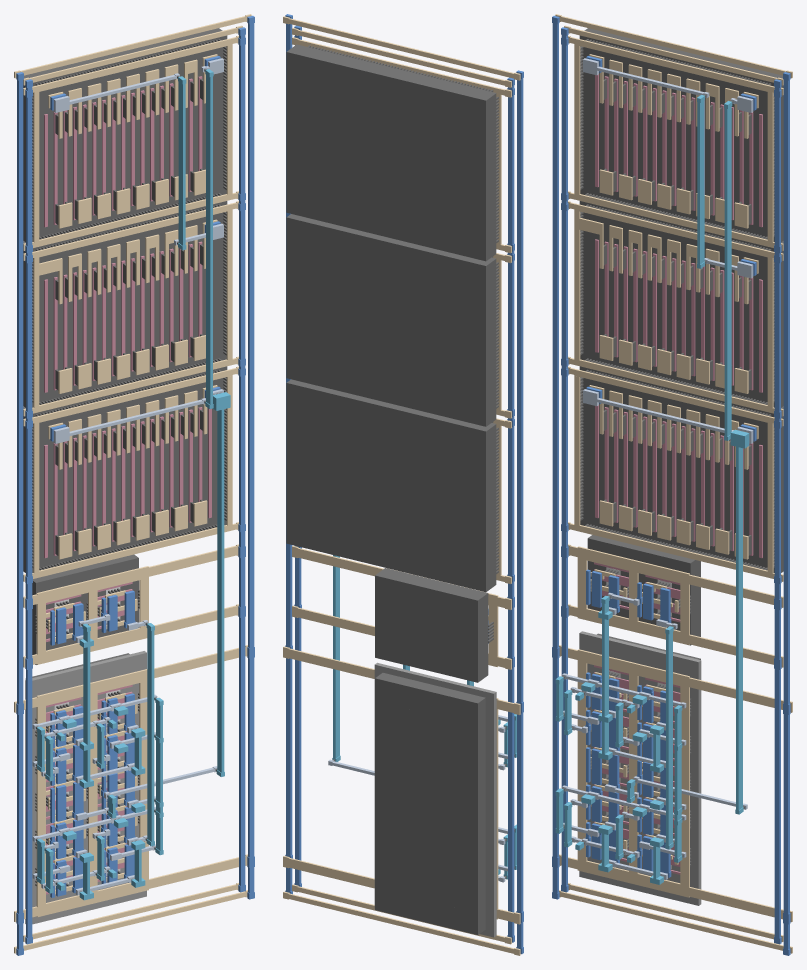
Rendered from OTA.gds.gltf.
3 views of the same model, side by side, from view 1: azimuth 30°, elevation 25°; view 2: azimuth 150°, elevation 25°; view 3: azimuth 330°, elevation 25° (orthographic).
Parts seen in each view (by area): view 1: JNWTR_RPPO16_substrate (×3), OTA_met1, JNWTR_RES16_poly (×3), JNWTR_RES16_li1 (×3), OTA_li1, JNWTR_RES16_substrate (×3), OTA_met3, JNWTR_RPPO16_li1 (×3), OTA_met2, JNWATR_PCH_4C5F0_met1 (×10), JNWTR_RES16_licon (×3), JNWTR_RPPO16_licon (×3) (+10 smaller); view 2: JNWTR_RPPO16_substrate (×3), JNWTR_RES16_substrate (×3), JNWATR_PCH_4C5F0_substrate (×10), OTA_met1, OTA_li1, JNWATR_NCH_4C5F0_substrate (×2), JNWATR_NCH_4CTAPTOP_substrate (×2), JNWATR_PCH_4CTAPTOP_substrate (×2), JNWATR_NCH_4CTAPBOT_substrate (×2), JNWATR_PCH_4CTAPBOT_substrate (×2), JNWTR_RPPO16_li1 (×3), OTA_met3 (+4 smaller); view 3: JNWTR_RPPO16_substrate (×3), OTA_met1, JNWTR_RES16_poly (×3), OTA_li1, JNWTR_RES16_li1 (×3), OTA_met3, JNWTR_RES16_substrate (×2), JNWTR_RPPO16_li1 (×3), OTA_met2, JNWATR_PCH_4C5F0_met1 (×10), JNWTR_RES16_licon (×3), JNWTR_RPPO16_licon (×3) (+12 smaller).
Boxes of the visible parts, x1,y1,x2,y2 form: JNWTR_RPPO16_substrate (×3): (23, 28, 227, 572); OTA_met1: (16, 15, 254, 955); JNWTR_RES16_poly (×3): (44, 76, 211, 558); JNWTR_RES16_li1 (×3): (50, 59, 207, 559); OTA_li1: (14, 14, 251, 953); JNWTR_RES16_substrate (×3): (45, 60, 207, 550); OTA_met3: (37, 69, 230, 900); JNWTR_RPPO16_li1 (×3): (33, 39, 232, 574); OTA_met2: (32, 58, 223, 895); JNWATR_PCH_4C5F0_met1 (×10): (50, 693, 134, 897); JNWTR_RES16_licon (×3): (55, 79, 203, 555); JNWTR_RPPO16_licon (×3): (32, 39, 226, 570); JNWTR_RPPO16_substrate (×3): (286, 44, 496, 592); JNWTR_RES16_substrate (×3): (304, 76, 468, 568); JNWATR_PCH_4C5F0_substrate (×10): (375, 701, 485, 912); OTA_met1: (285, 14, 523, 954); OTA_li1: (283, 16, 520, 955); JNWATR_NCH_4C5F0_substrate (×2): (375, 598, 488, 660); JNWATR_NCH_4CTAPTOP_substrate (×2): (375, 568, 488, 622); JNWATR_PCH_4CTAPTOP_substrate (×2): (375, 673, 485, 725); JNWATR_NCH_4CTAPBOT_substrate (×2): (375, 635, 488, 682); JNWATR_PCH_4CTAPBOT_substrate (×2): (375, 887, 485, 934); JNWTR_RPPO16_li1 (×3): (302, 42, 501, 579); OTA_met3: (332, 555, 516, 879); JNWTR_RPPO16_substrate (×3): (579, 28, 783, 572); OTA_met1: (552, 15, 790, 955); JNWTR_RES16_poly (×3): (595, 74, 762, 558); OTA_li1: (555, 14, 792, 953); JNWTR_RES16_li1 (×3): (590, 56, 748, 559); OTA_met3: (555, 95, 749, 884); JNWTR_RES16_substrate (×2): (599, 59, 761, 550); JNWTR_RPPO16_li1 (×3): (574, 39, 773, 574); OTA_met2: (562, 58, 753, 879); JNWATR_PCH_4C5F0_met1 (×10): (586, 672, 670, 873); JNWTR_RES16_licon (×3): (603, 79, 751, 555); JNWTR_RPPO16_licon (×3): (580, 39, 774, 570).
Size of the model in its own units: 26.5 by 94.28 by 5.63.
